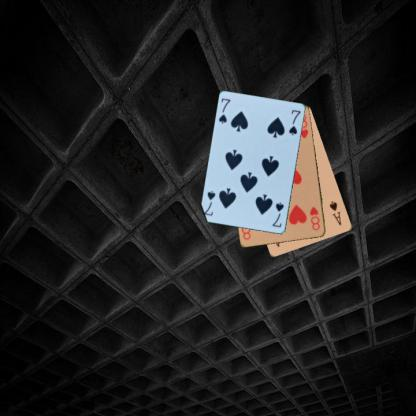7s: (216, 96, 232, 125), (270, 200, 285, 229)
8h: (308, 204, 322, 232)
As: (327, 199, 343, 226)
